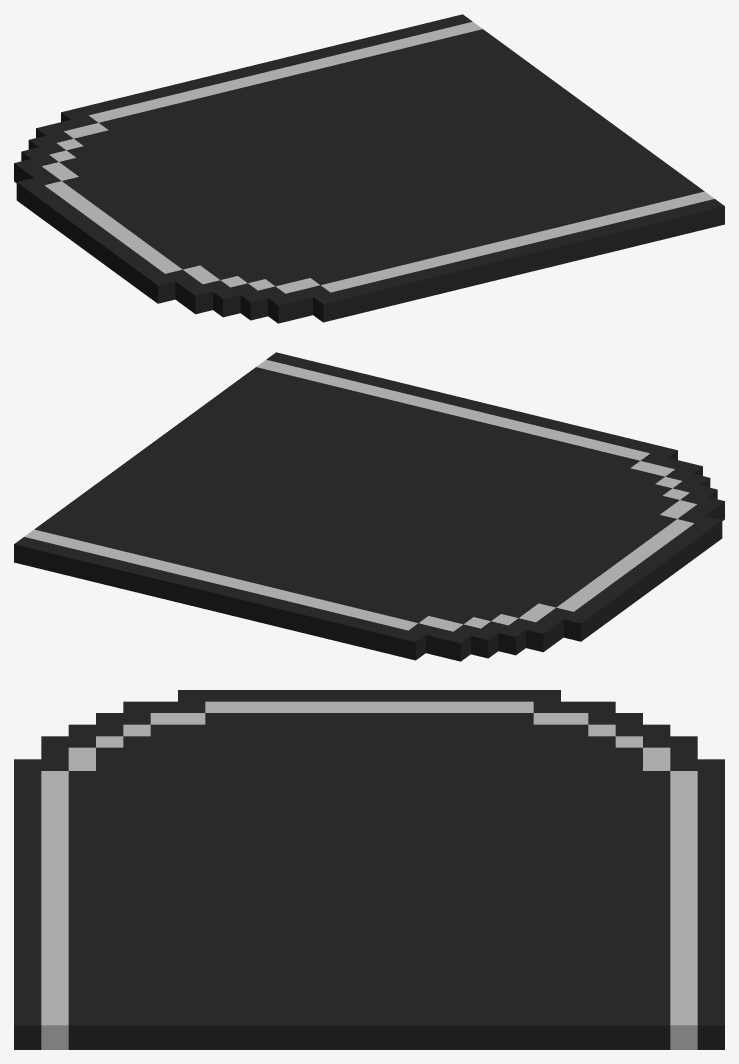
Rendered from road-rounded-dead-end-2.gltf.
The picture shows the model from 3 angles, top to bottom: view 1: azimuth 30°, elevation 25°; view 2: azimuth 150°, elevation 25°; view 3: azimuth 270°, elevation 25°; orthographic projection. The views are drawn at different scales.
Parts seen in each view (by area): view 1: road-rounded-dead-end-2_model; view 2: road-rounded-dead-end-2_model; view 3: road-rounded-dead-end-2_model.
Boxes of the visible parts, x1,y1,x2,y2 form: road-rounded-dead-end-2_model: (14, 14, 724, 323); road-rounded-dead-end-2_model: (14, 352, 724, 661); road-rounded-dead-end-2_model: (14, 690, 724, 1049).
Size of the model in its own units: 2.9 by 0.1 by 2.6.
Materials: 1 (1 with a texture image).
